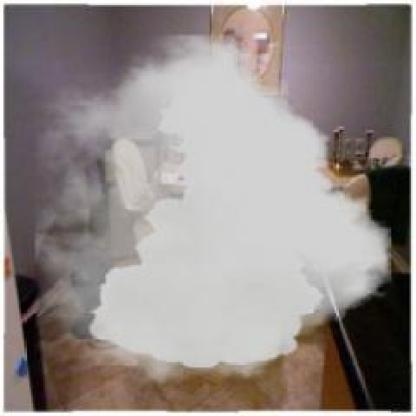Smoke: (35, 35, 391, 385)
